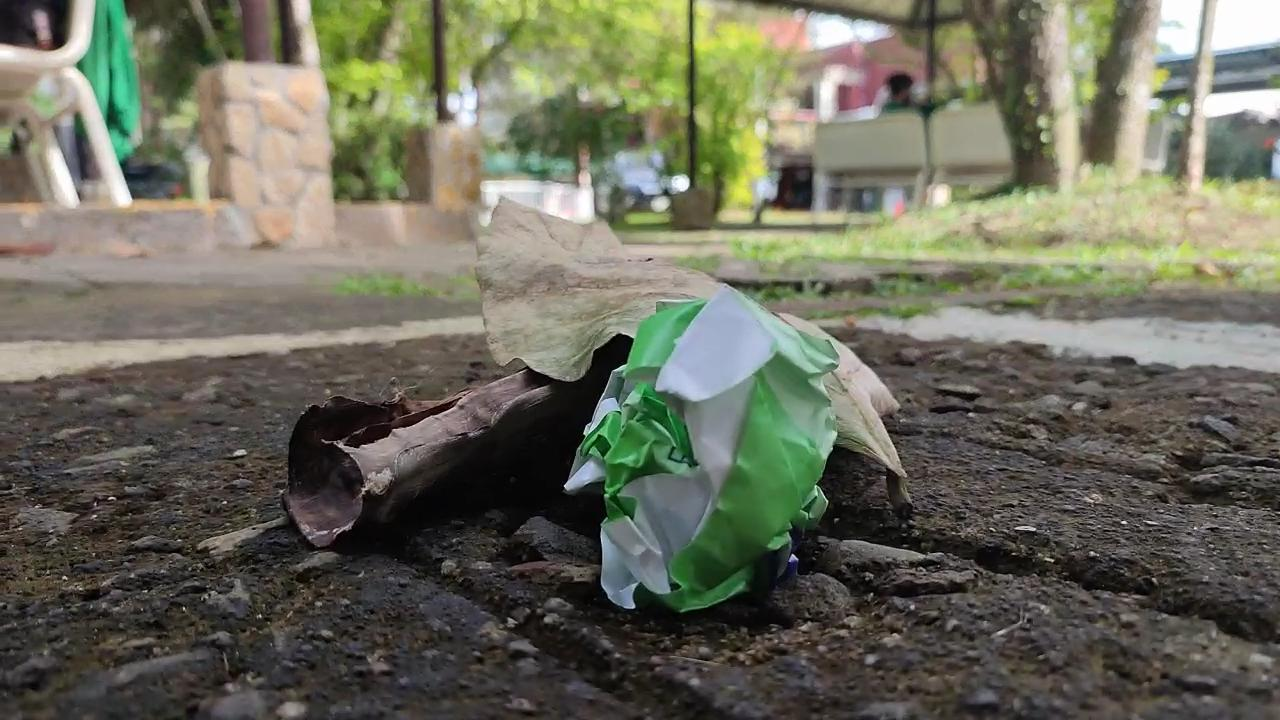Paper: (542, 260, 852, 633)
